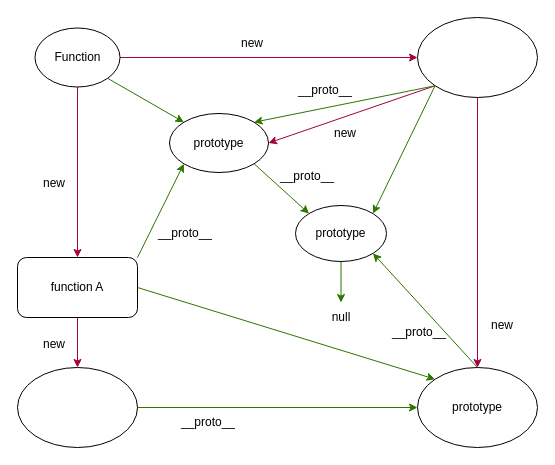
Some shapes in this 555 by 465 pixel diagram are drawn without their labels. The centre of each missing label's shape, as x and y in pixels:
"Instance a" goes at point (77, 407).
"Object" goes at point (477, 57).
